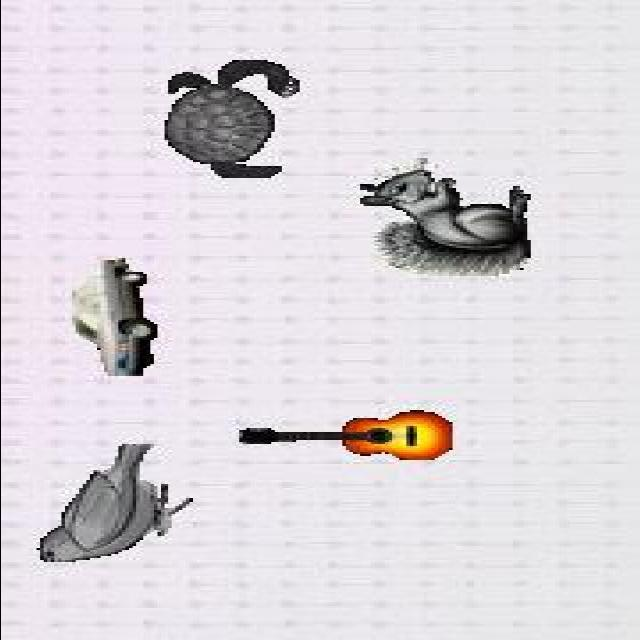Other Objects: (34, 443, 192, 563)
